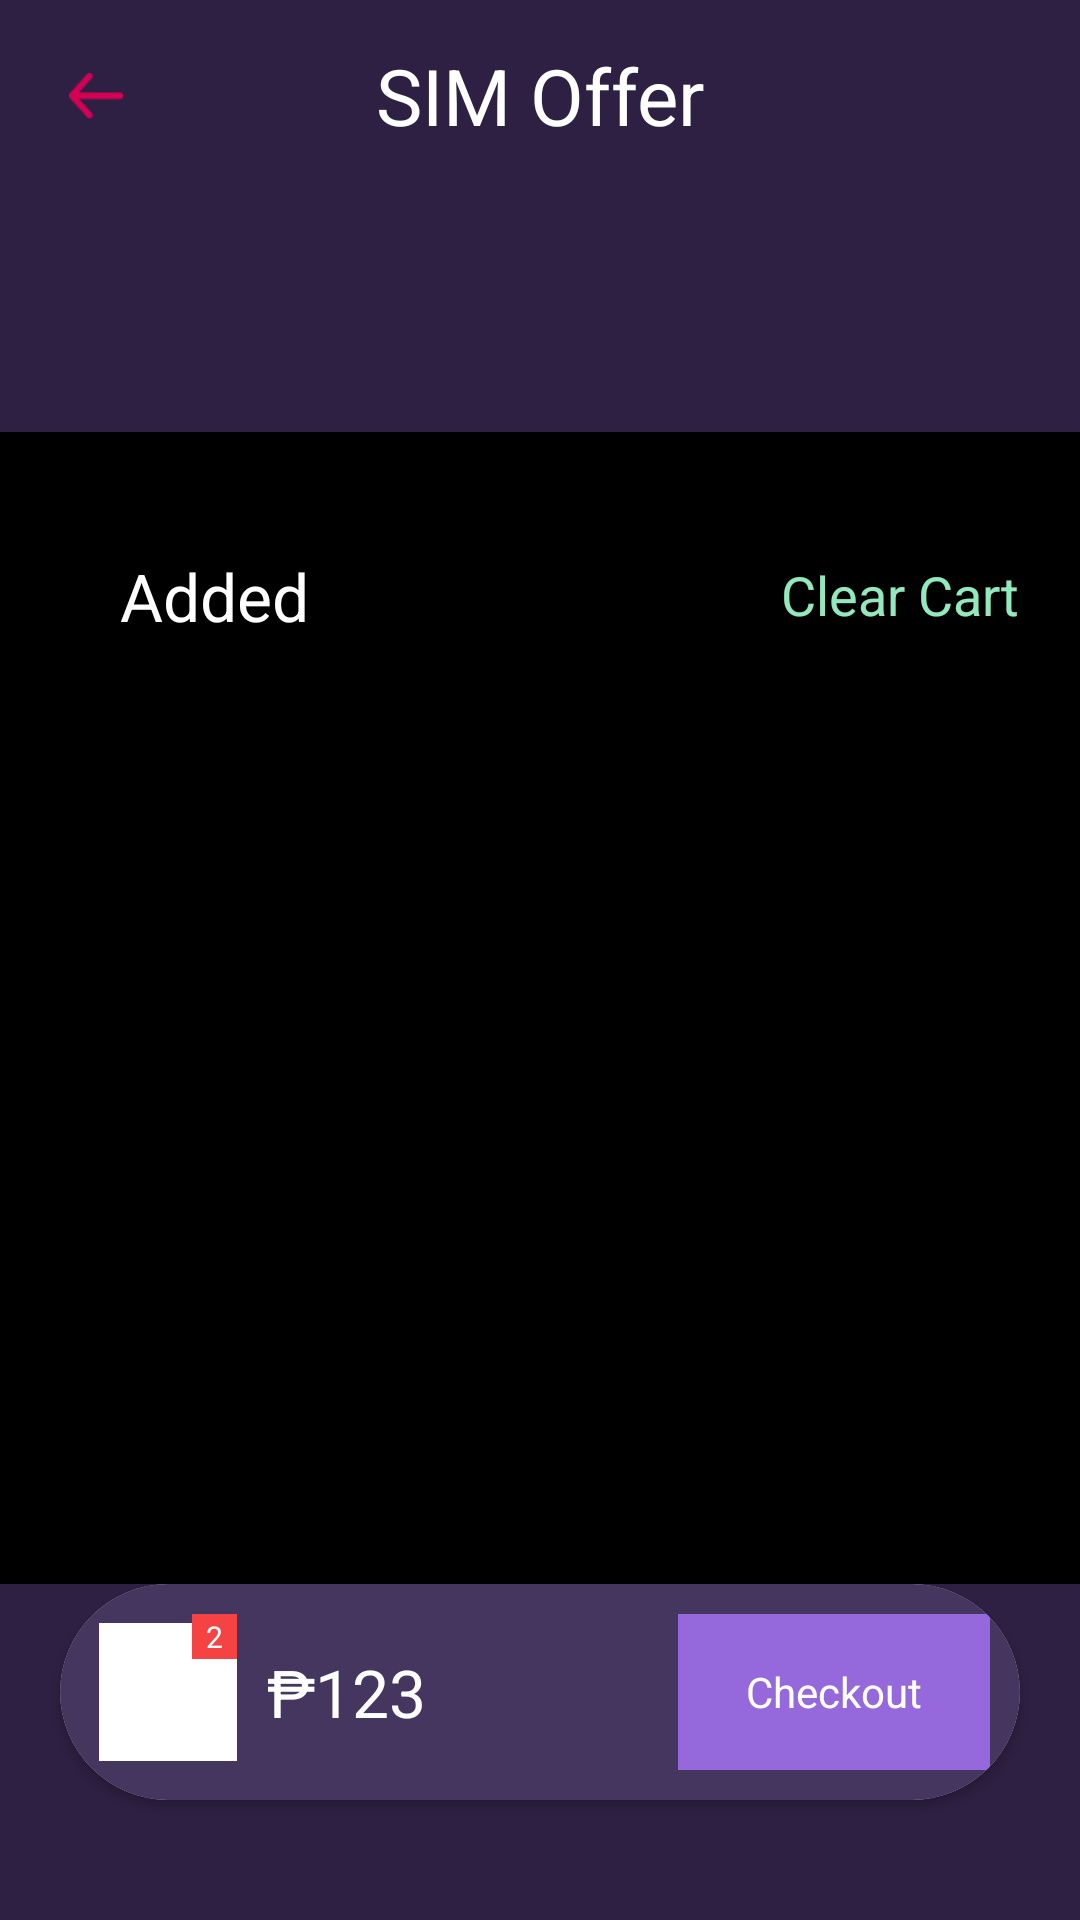

Locate icon controls on the screen. Image size 1080x1920, boxes as (x1, y1, x2, y2).
back: (69, 73, 123, 119)
